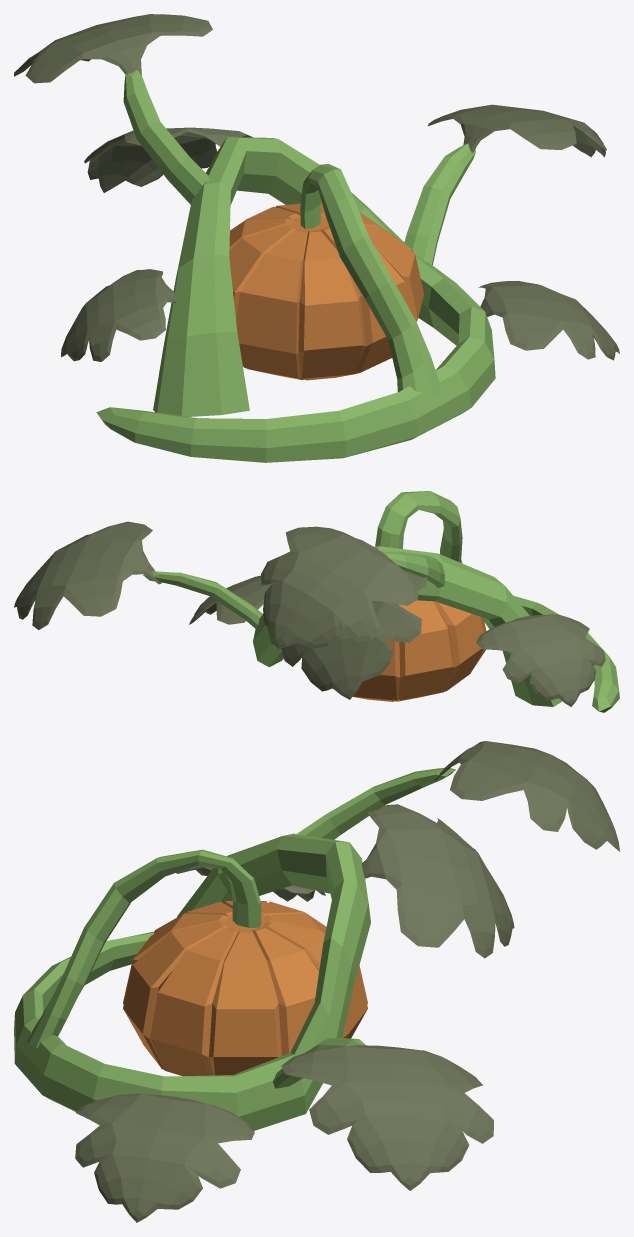
The model's file is pumpkin_4.glb.
3 renders of one model, top to bottom at view 1: azimuth 30°, elevation 25°; view 2: azimuth 150°, elevation 25°; view 3: azimuth 270°, elevation 25°, orthographic. The views are drawn at different scales.
Parts seen in each view (by area): view 1: Pumpkin_4; view 2: Pumpkin_4; view 3: Pumpkin_4.
Boxes of the visible parts, x1=… form: Pumpkin_4: x1=14, y1=14, x2=619, y2=462; Pumpkin_4: x1=14, y1=491, x2=619, y2=712; Pumpkin_4: x1=14, y1=741, x2=619, y2=1222.
Size of the model in its own units: 1.29 by 0.59 by 1.08.
